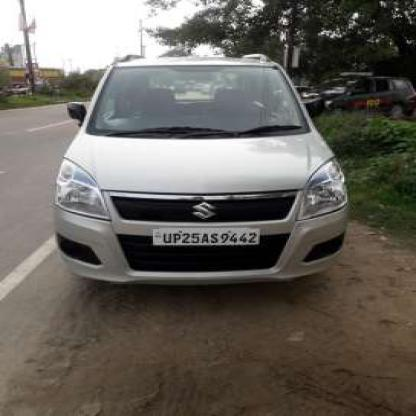license: (148, 224, 268, 246)
